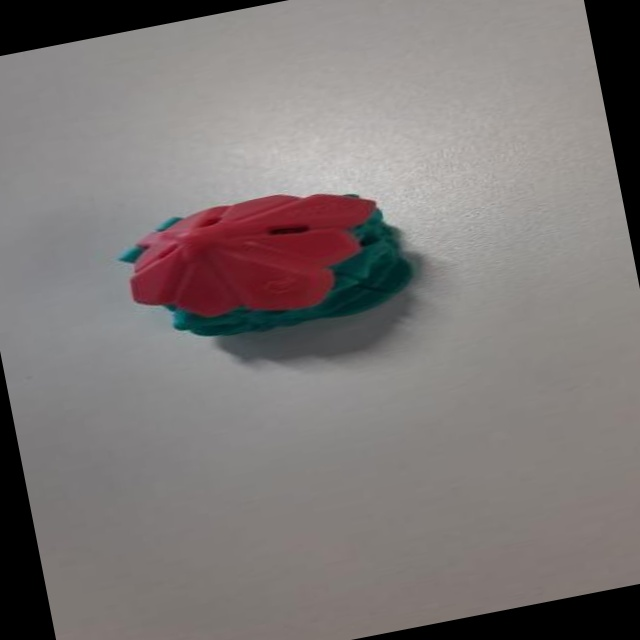House: (112, 159, 437, 364)
